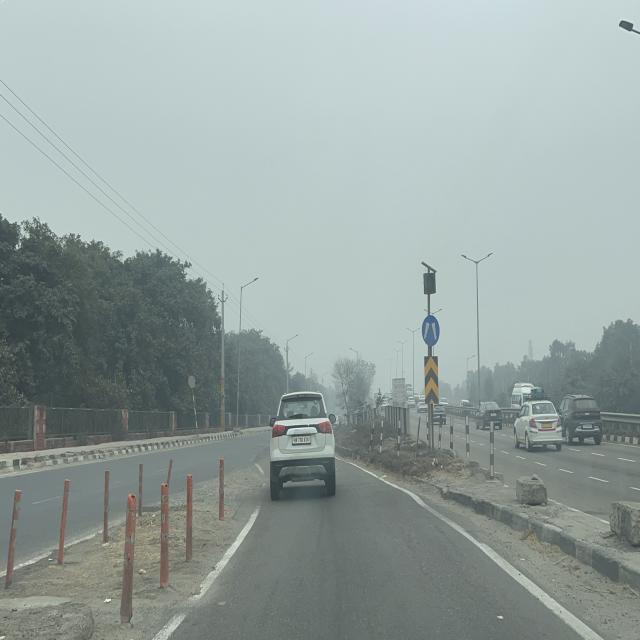KEEP_EITHER_SIDE: (421, 314, 440, 347)
